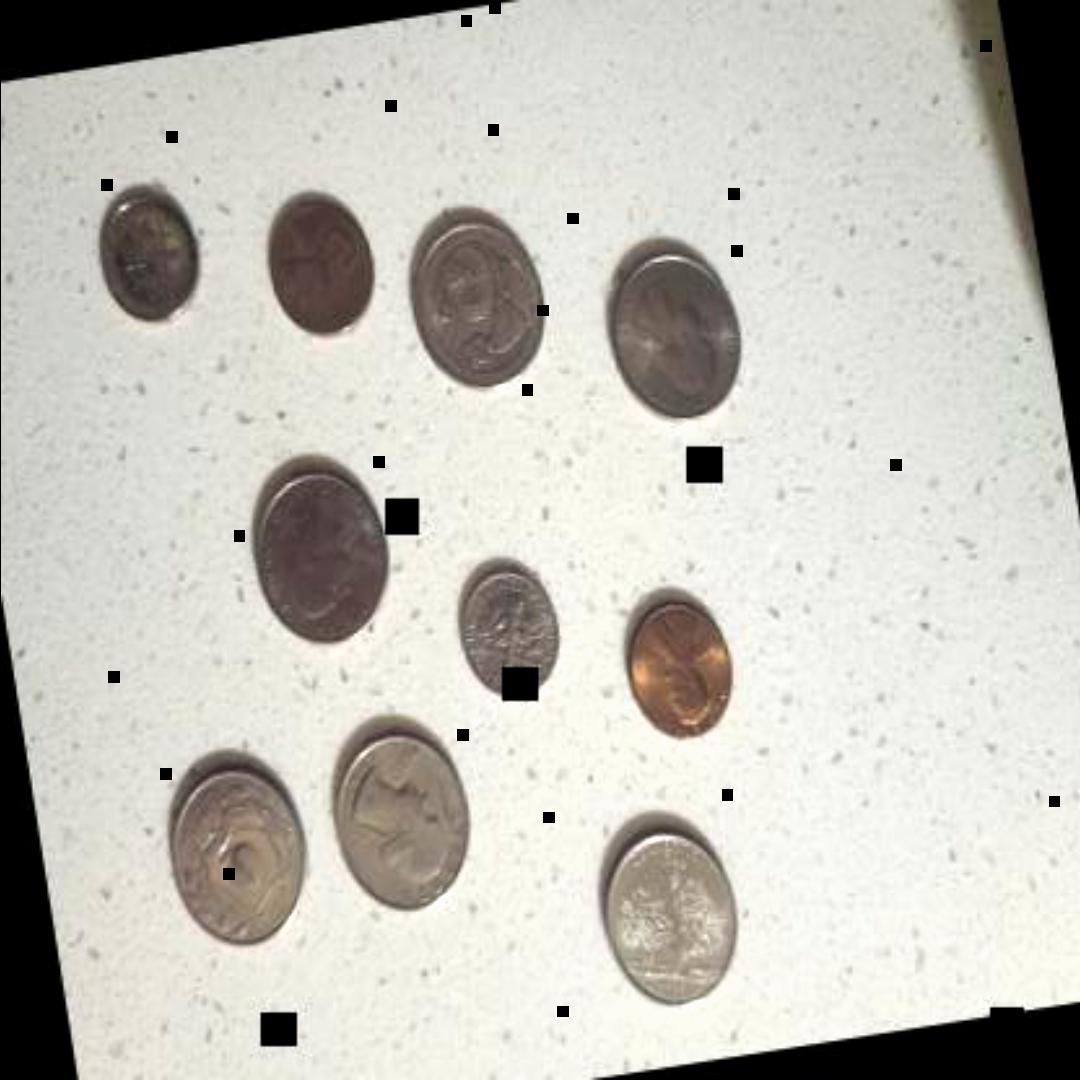Dime: (88, 168, 220, 340), (454, 552, 574, 708)
Penny: (258, 172, 394, 352), (617, 592, 740, 748)
Quarter: (153, 739, 324, 959), (587, 818, 753, 1012), (326, 716, 486, 916), (240, 460, 394, 653), (604, 236, 754, 426), (409, 213, 545, 391)
